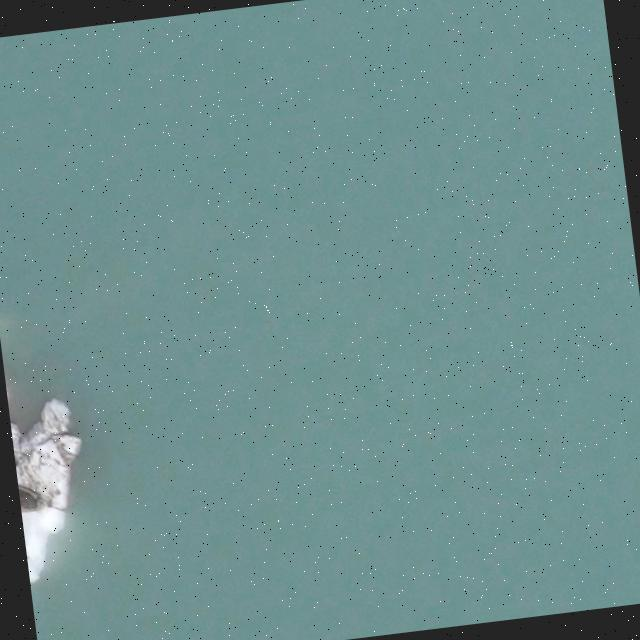seal: (18, 481, 47, 514)
